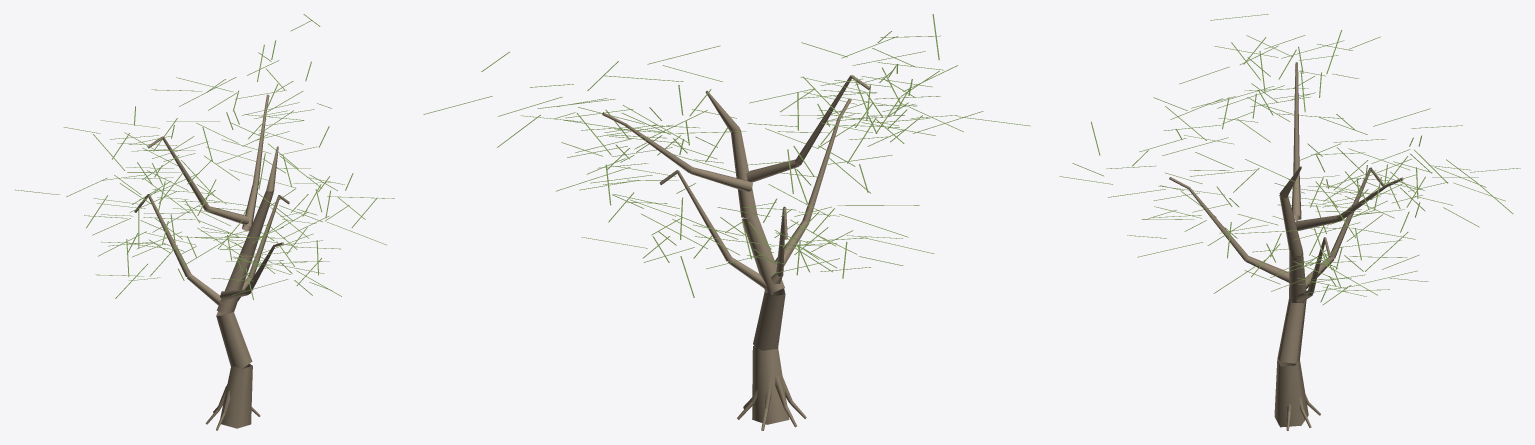
The model's file is small_tree_lod2.glb.
The picture shows the model from 3 angles, left to right: view 1: azimuth 30°, elevation 25°; view 2: azimuth 150°, elevation 25°; view 3: azimuth 270°, elevation 25°; orthographic projection. The views are drawn at different scales.
Parts seen in each view (by area): view 1: Leaves, Bark; view 2: Bark, Leaves; view 3: Leaves, Bark.
Boxes of the visible parts, left/top/right/bottom form: Leaves: left=15, top=14, right=394, bottom=299; Bark: left=134, top=94, right=289, bottom=430; Bark: left=602, top=75, right=870, bottom=430; Leaves: left=423, top=14, right=1030, bottom=297; Leaves: left=1059, top=14, right=1520, bottom=305; Bark: left=1169, top=62, right=1403, bottom=430.
Size of the model in its own units: 8.14 by 7.72 by 9.21.
